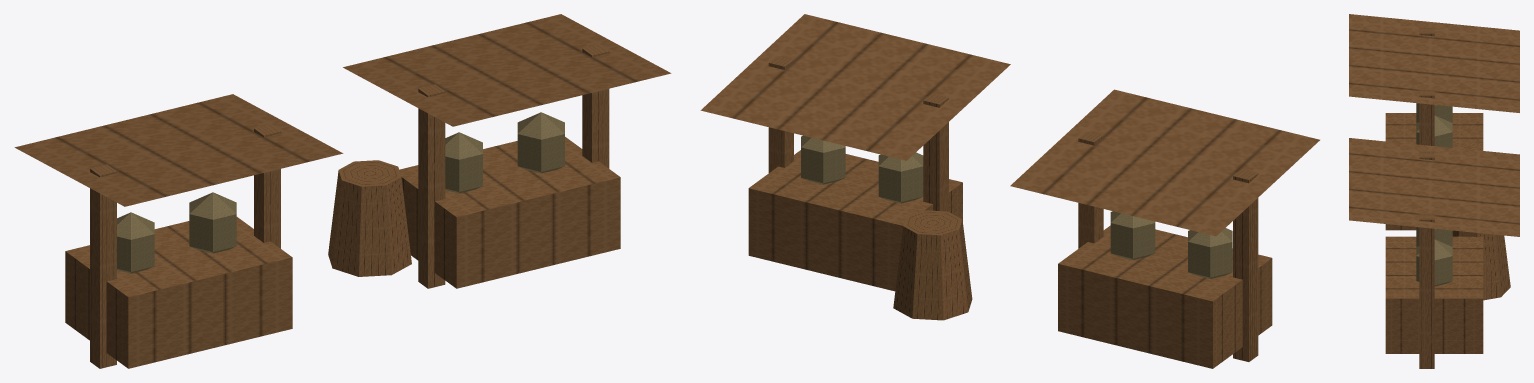
Rendered from domestic-BLACK_MARKET-1-lod0.glb.
3 renders of one model, left to right at view 1: azimuth 30°, elevation 25°; view 2: azimuth 150°, elevation 25°; view 3: azimuth 270°, elevation 25°, orthographic. The views are drawn at different scales.
Size of the model in its own units: 0.8 by 0.28 by 0.28.
1 material, 1 textured.
